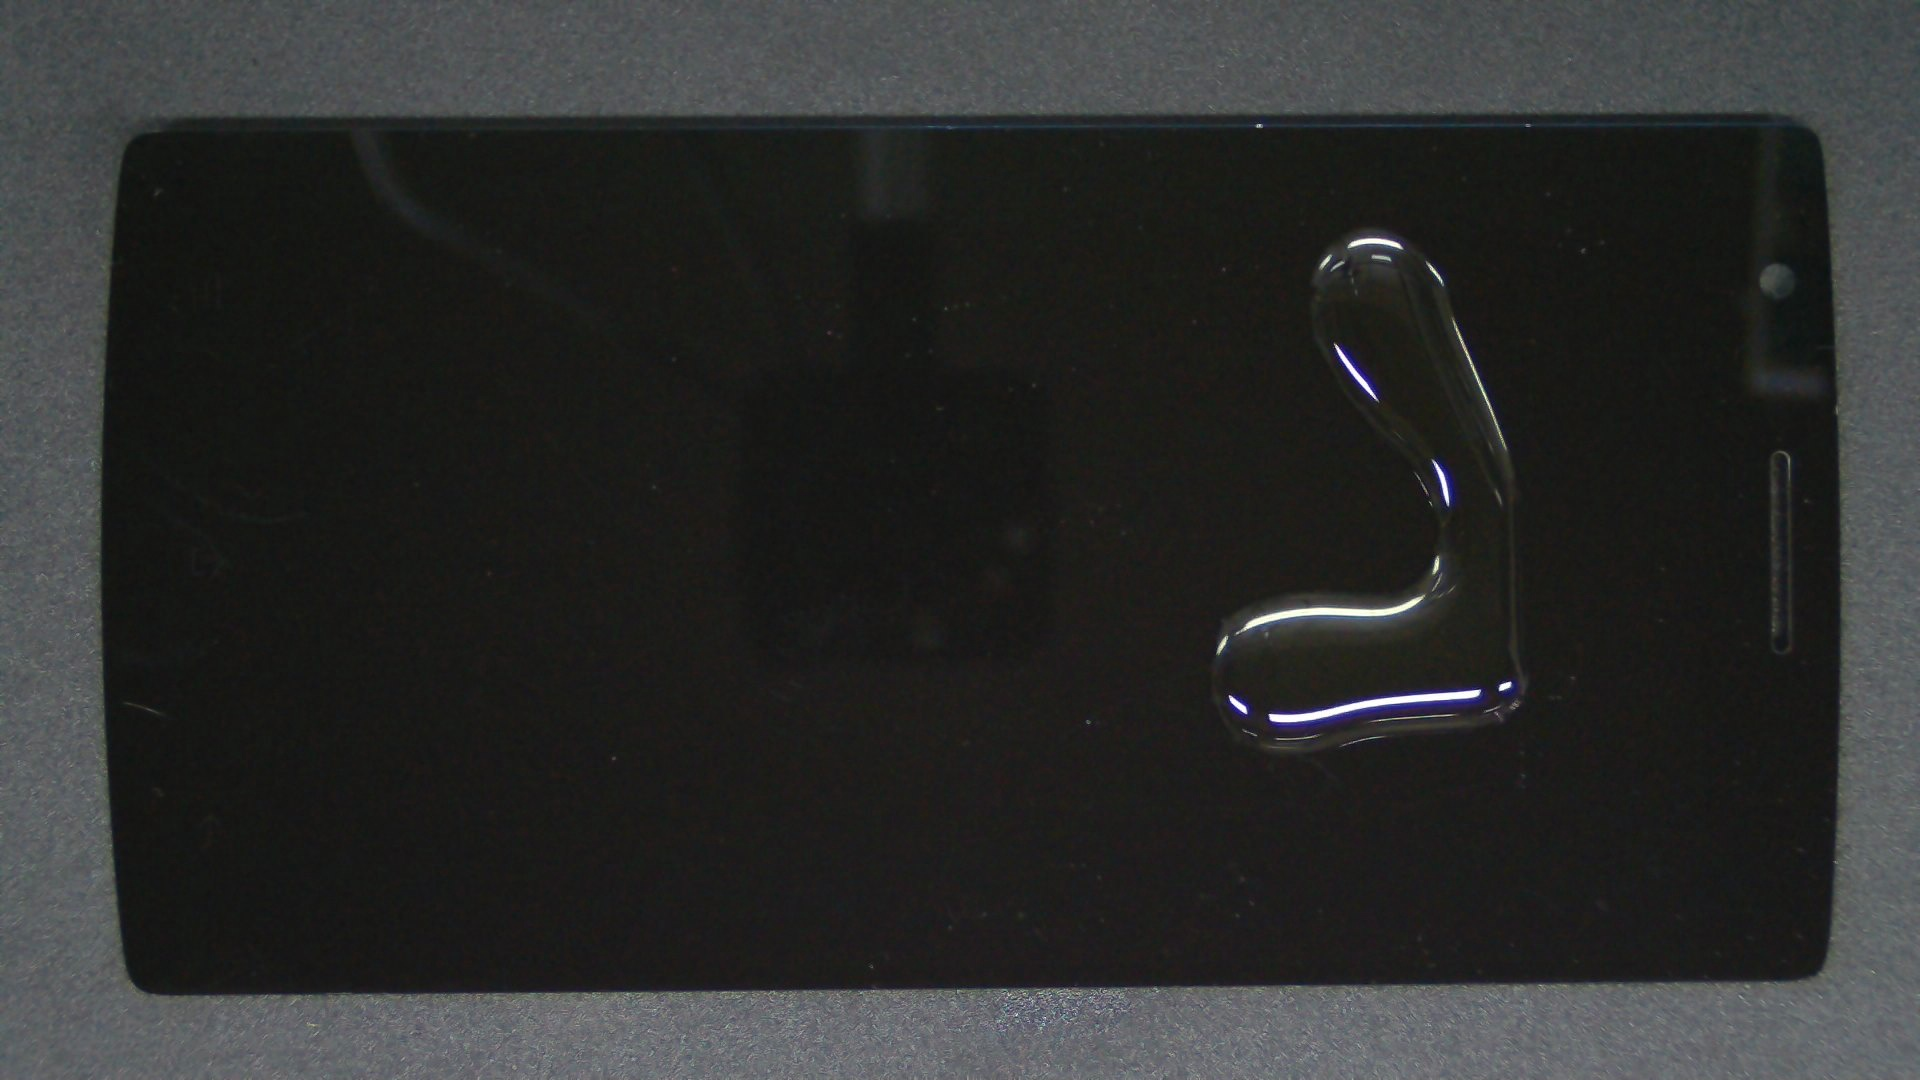oil: (684, 112, 1920, 339)
